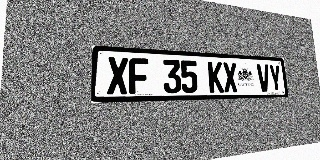3: (163, 59, 181, 93)
5: (180, 60, 198, 93)
F: (129, 58, 149, 94)
K: (207, 61, 224, 93)
V: (256, 64, 271, 92)
X: (107, 57, 128, 94), (222, 62, 238, 92)
Y: (268, 64, 282, 92)
